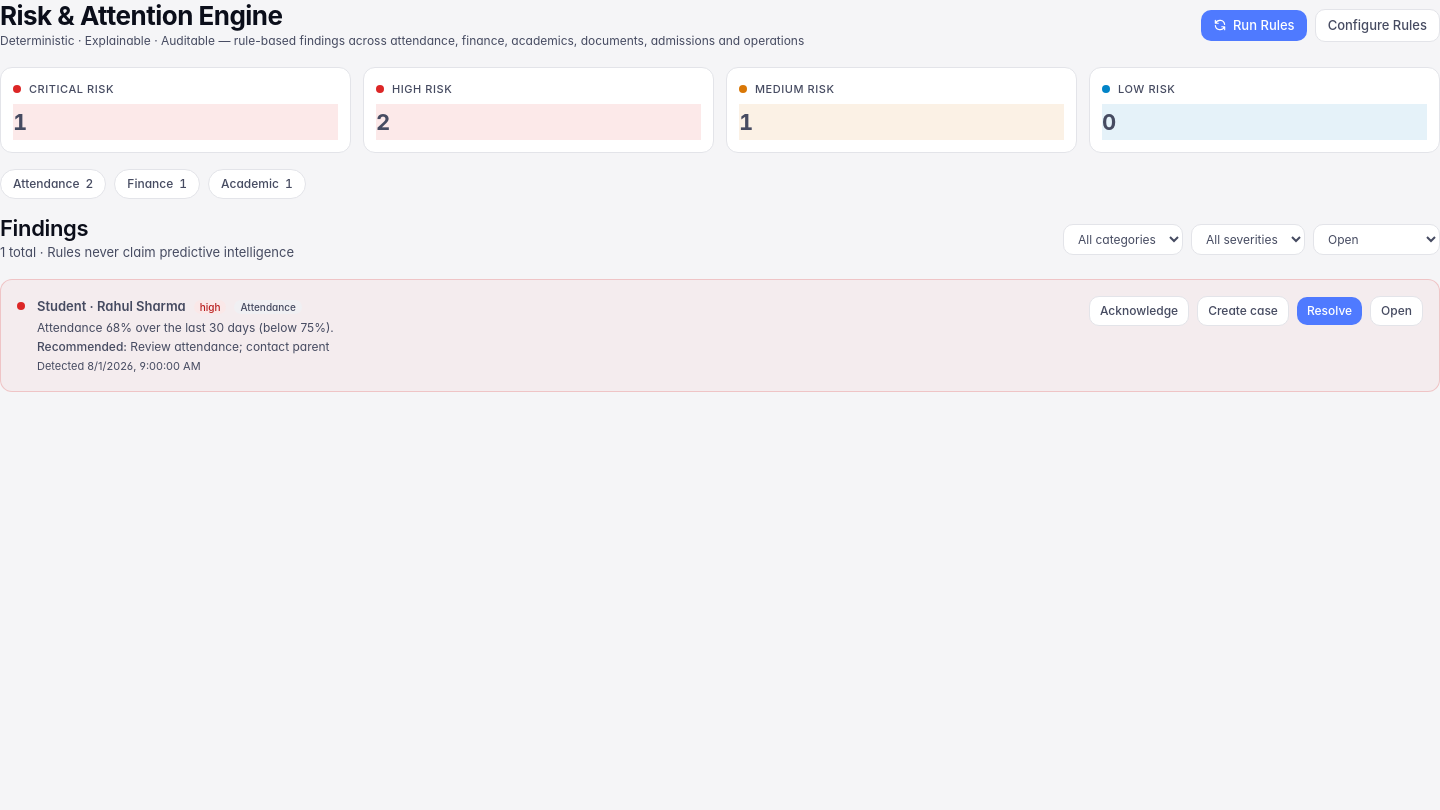
Test: Risk Center page › resolves a finding through the audited dialog
The width and height of the screenshot is (1440, 810).
Expected: the text "Student · Rahul Sharma" is shown, x1=37 y1=296 x2=186 y2=318
Click the button "Resolve" at (1330, 311), box x1=1297 y1=297 x2=1362 y2=325
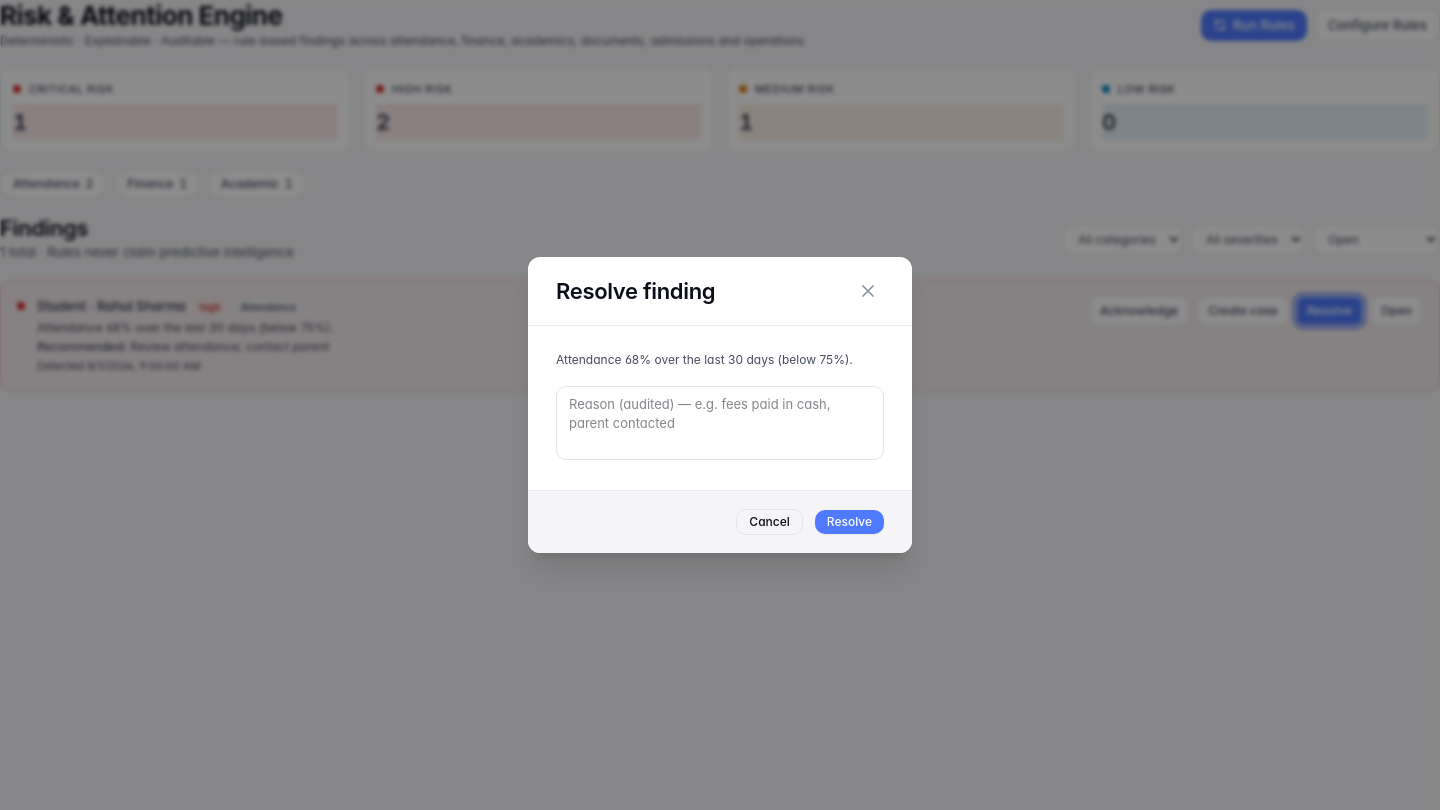
Expected: the dialog is shown
Type "Paid in cash" into the text box with placeholder "Reason (audited) — e.g. fees paid in cash, parent contacted" at (720, 423), box x1=556 y1=386 x2=884 y2=460
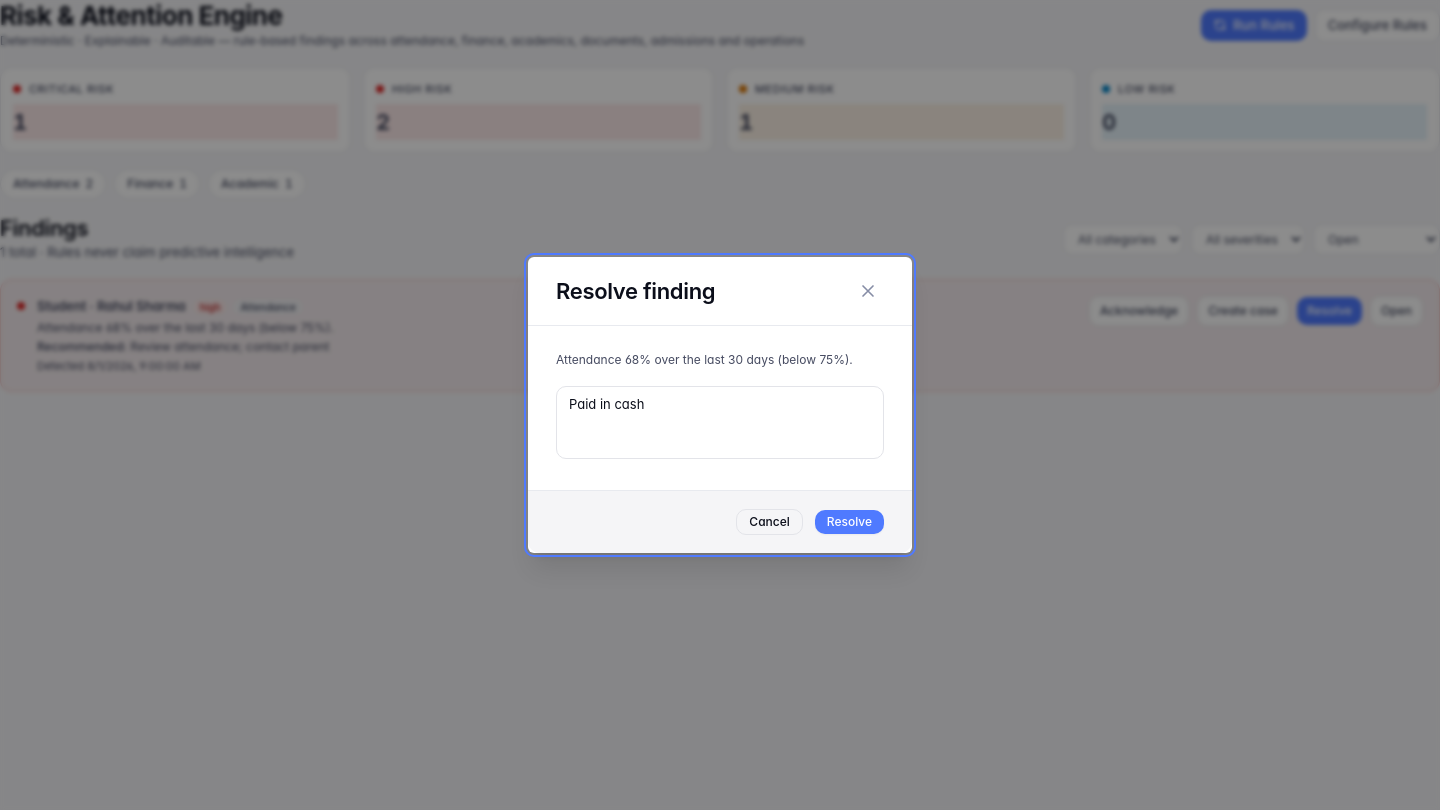
Click the button "Resolve" at (849, 522), box x1=815 y1=510 x2=884 y2=534
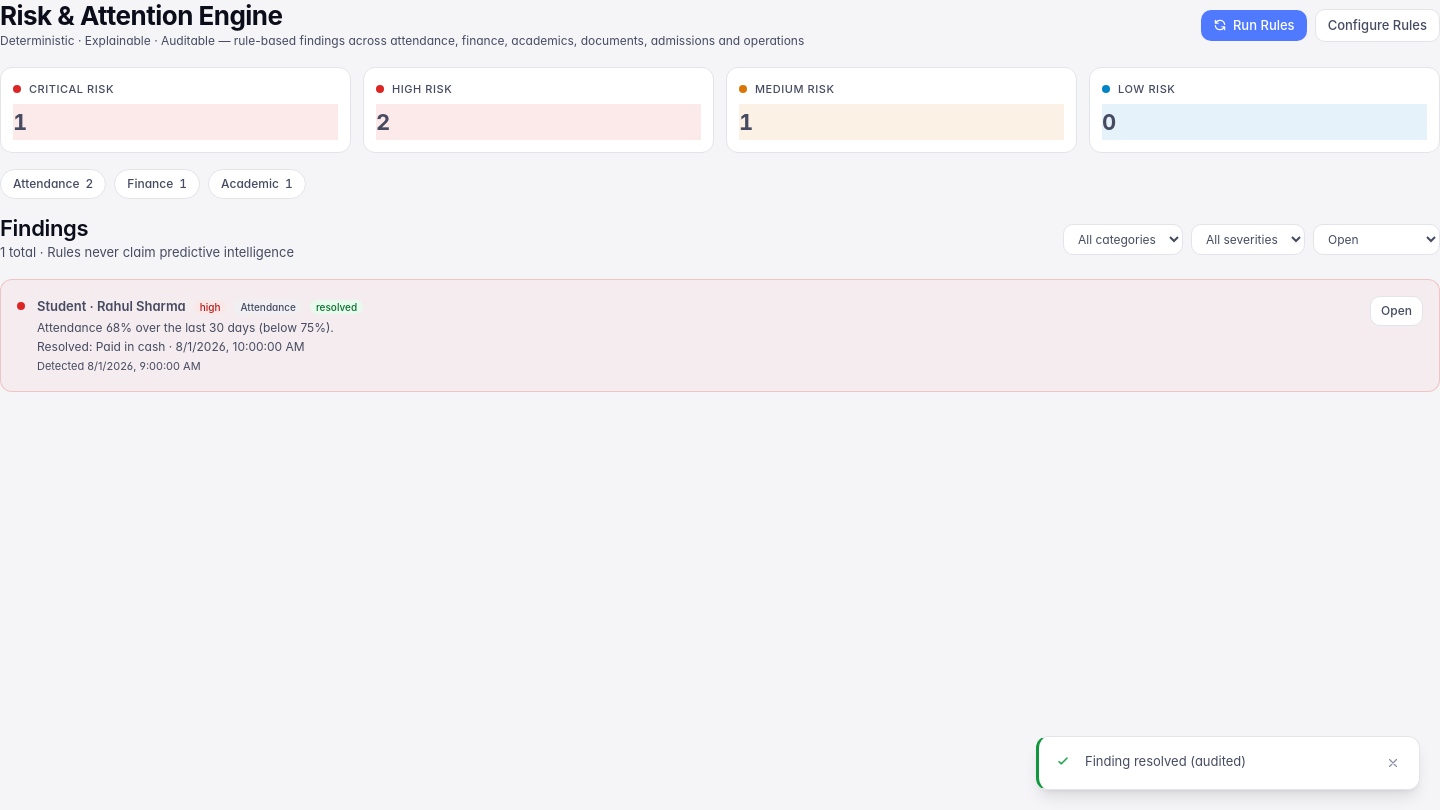
Expected: the text "Resolved: Paid in cash · 8/1/2026, 10:00:00 AM" is shown, x1=37 y1=340 x2=305 y2=354
